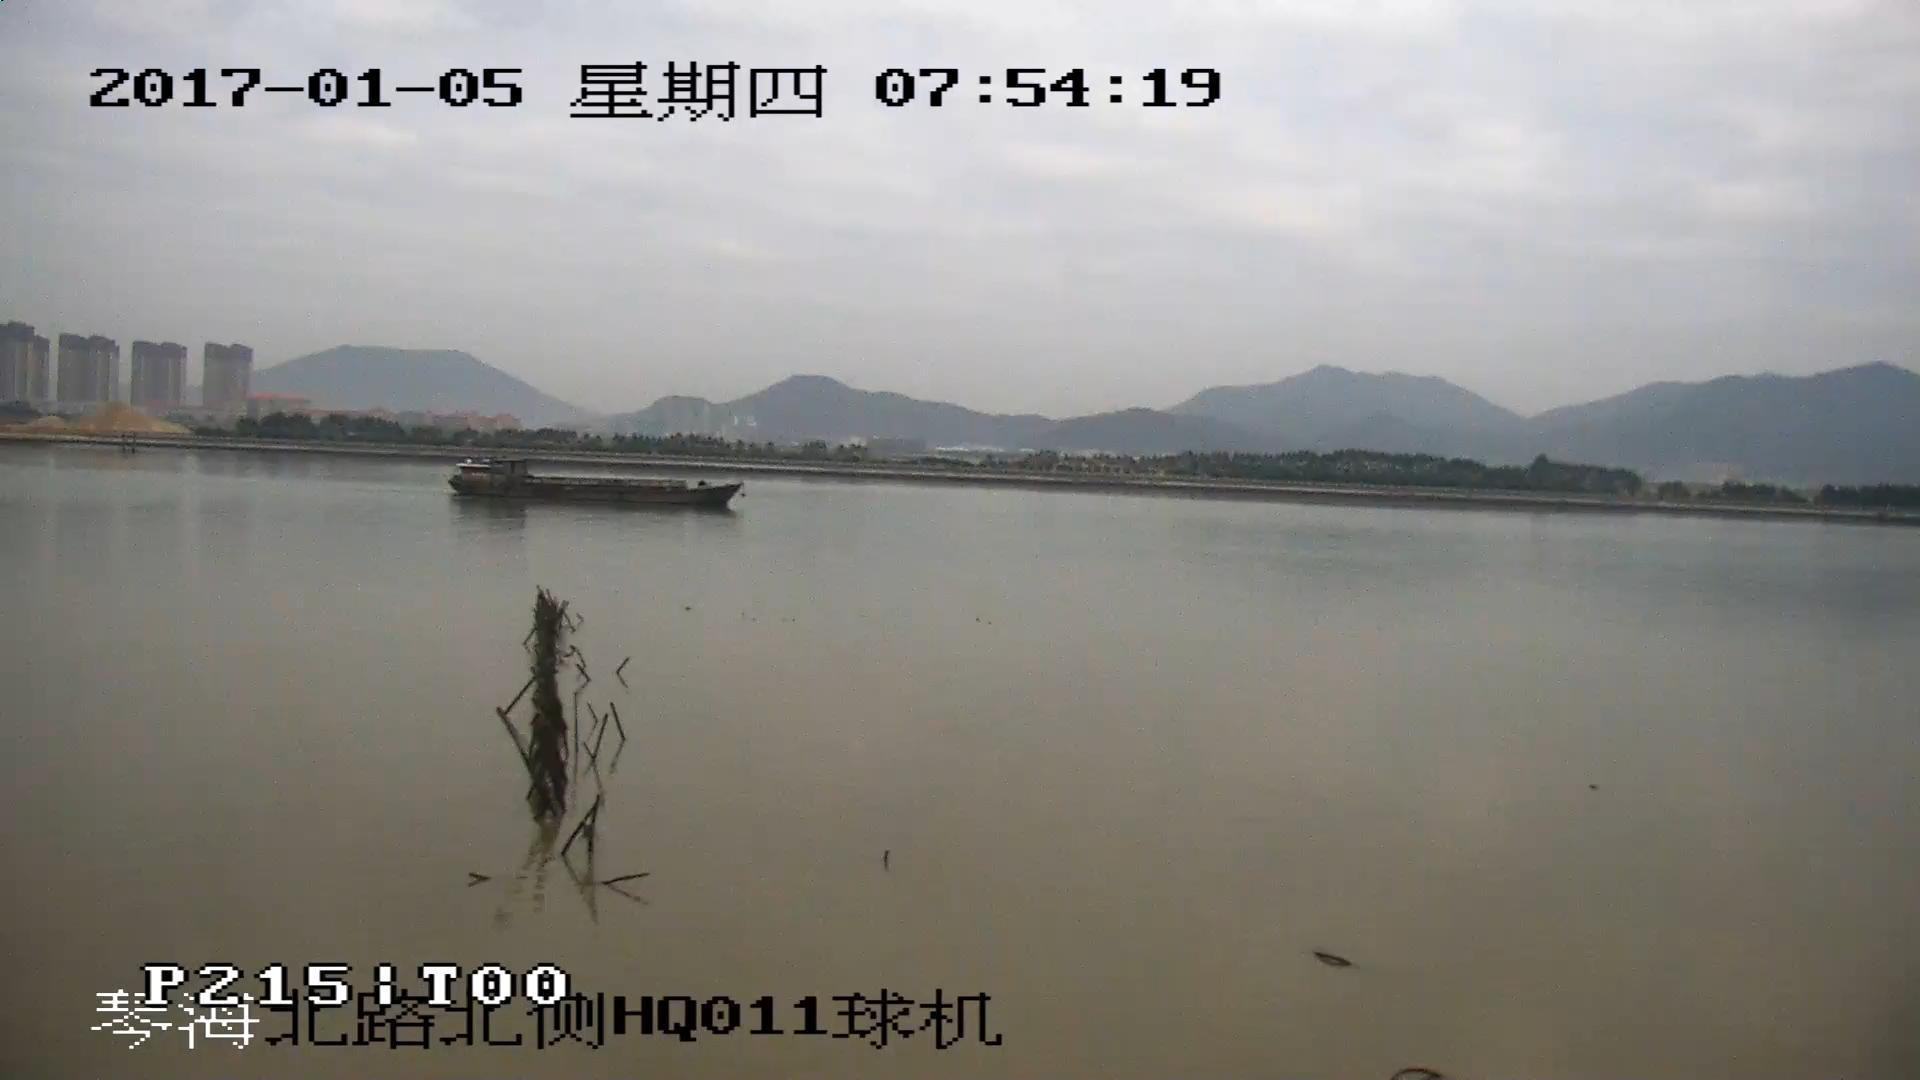Ship: (448, 462, 742, 512)
